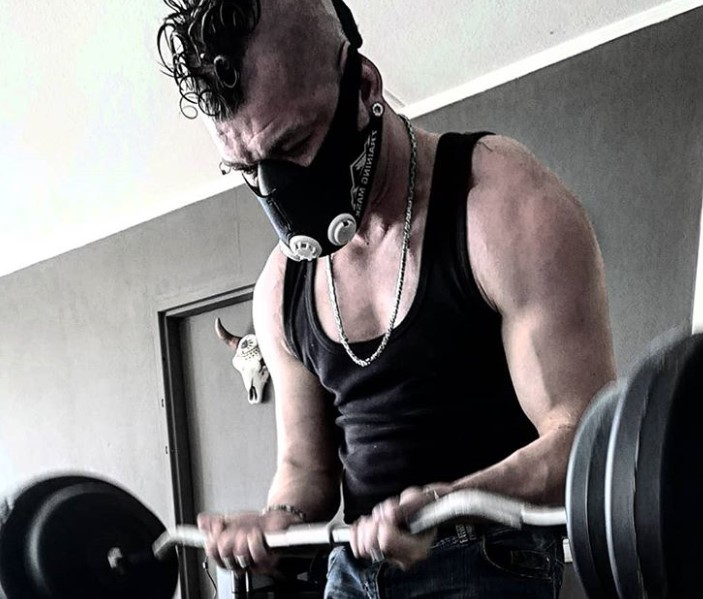face_with_mask: (194, 3, 399, 270)
